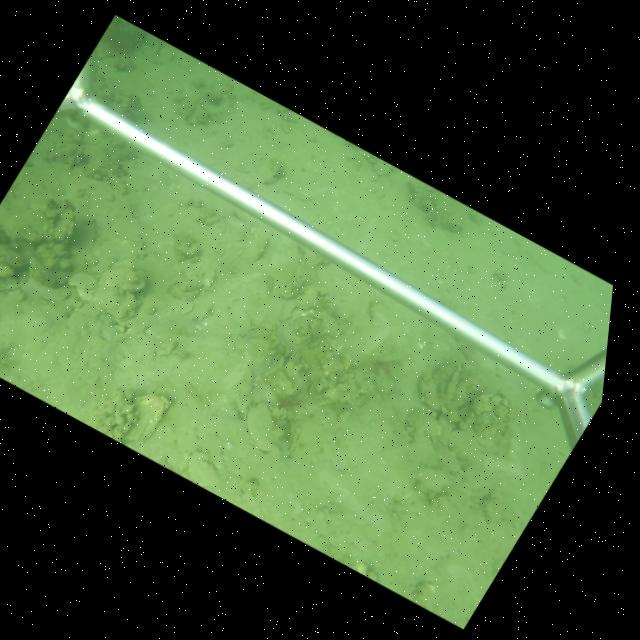Oyster-Closed: (125, 392, 168, 448), (242, 402, 278, 455), (417, 373, 444, 414), (106, 268, 148, 293), (269, 367, 300, 399), (250, 238, 268, 263), (289, 430, 302, 458), (375, 354, 400, 367), (290, 350, 300, 363)
Oyster-Indeterminate: (186, 450, 223, 490), (368, 300, 390, 327), (294, 285, 317, 310), (278, 299, 295, 322)
